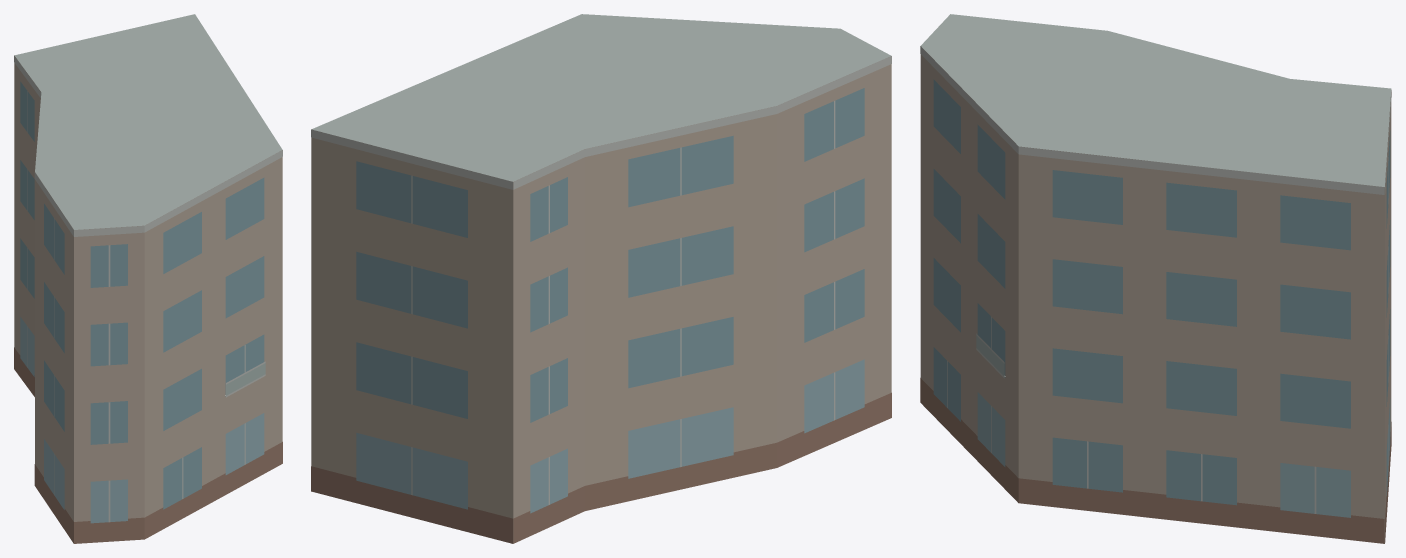
File: survey-upis-32782506.glb
The picture shows the model from 3 angles, left to right: view 1: azimuth 30°, elevation 25°; view 2: azimuth 150°, elevation 25°; view 3: azimuth 270°, elevation 25°; orthographic projection. The views are drawn at different scales.
Parts seen in each view (by area): view 1: survey-upis-32782506.tmp; view 2: survey-upis-32782506.tmp; view 3: survey-upis-32782506.tmp.
Part boxes in pixels (box(x1,y1,x2,y2)): survey-upis-32782506.tmp: box(14, 14, 282, 543); survey-upis-32782506.tmp: box(311, 14, 891, 543); survey-upis-32782506.tmp: box(920, 14, 1391, 543).
Bounding box in the file's own units: 11.35 × 10.9 × 13.05.
